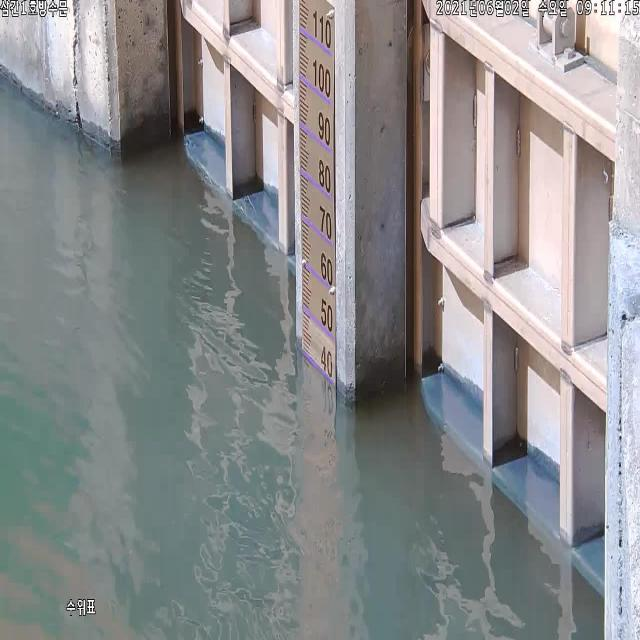ruler: (292, 0, 344, 390)
value: (311, 6, 334, 50), (312, 56, 332, 100), (316, 155, 334, 197), (316, 108, 334, 148), (316, 202, 334, 242), (318, 295, 336, 333), (318, 344, 337, 379), (318, 250, 335, 288)
